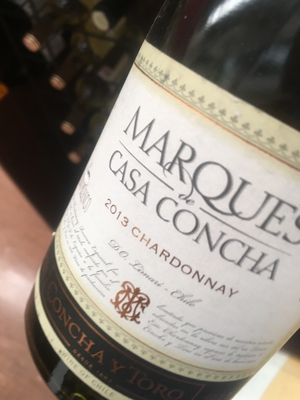marques de casa concha chardonnay: (39, 11, 300, 400)
